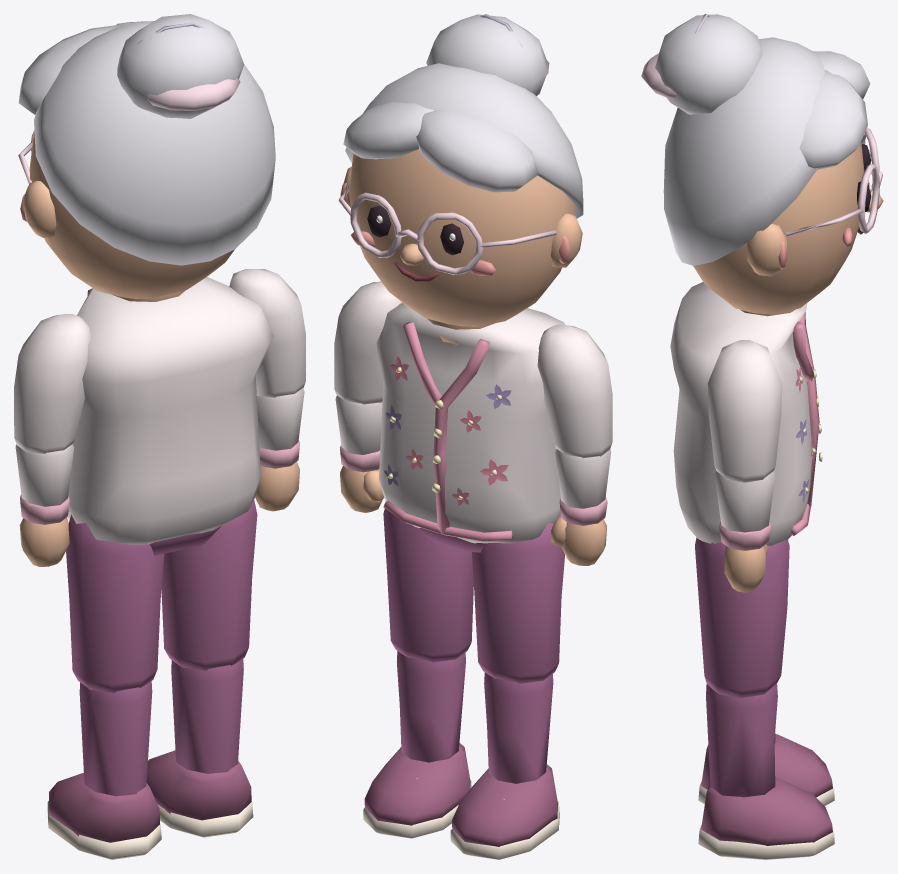
File: owner_grandma.glb
3 renders of one model, left to right at view 1: azimuth 30°, elevation 25°; view 2: azimuth 150°, elevation 25°; view 3: azimuth 270°, elevation 25°, orthographic. The views are drawn at different scales.
Visible parts, largest first — view 1: Hair, Body, Knee_L, Leg_L, Knee_R, Leg_R, Head, Arm_L, Arm_R, Forearm_L, Forearm_R, Glasses; view 2: Body, Head, Hair, Knee_L, Knee_R, Leg_L, Leg_R, Arm_L, Arm_R, Forearm_L, Forearm_R, Glasses; view 3: Hair, Body, Knee_R, Head, Leg_R, Arm_R, Forearm_R, Knee_L, Glasses.
Part boxes in pixels (x1,y1,x2,y2): Hair: (18, 14, 275, 265); Body: (67, 277, 273, 555); Knee_L: (47, 681, 161, 859); Leg_L: (66, 514, 164, 692); Knee_R: (146, 659, 253, 837); Leg_R: (161, 500, 257, 670); Head: (20, 133, 234, 298); Arm_L: (14, 314, 91, 453); Arm_R: (229, 269, 305, 397); Forearm_L: (15, 444, 73, 566); Forearm_R: (255, 388, 304, 511); Glasses: (18, 78, 240, 184); Body: (376, 302, 565, 552); Head: (340, 149, 582, 326); Hair: (343, 14, 583, 218); Knee_L: (450, 672, 559, 859); Knee_R: (363, 651, 471, 838); Leg_L: (471, 513, 564, 683); Leg_R: (383, 508, 473, 662); Arm_L: (537, 324, 612, 458); Arm_R: (334, 281, 401, 404); Forearm_L: (551, 449, 611, 565); Forearm_R: (335, 395, 384, 513); Glasses: (338, 60, 556, 275); Hair: (655, 14, 870, 265); Body: (670, 282, 822, 545); Knee_R: (698, 684, 834, 859); Head: (693, 142, 883, 314); Leg_R: (695, 537, 789, 697); Arm_R: (707, 340, 782, 482); Forearm_R: (714, 471, 775, 592); Knee_L: (698, 733, 834, 805); Glasses: (641, 53, 882, 236).
Bounding box in the file's own units: 0.5384 × 1.5 × 0.4111.
Materials: 18 (18 with a texture image).
